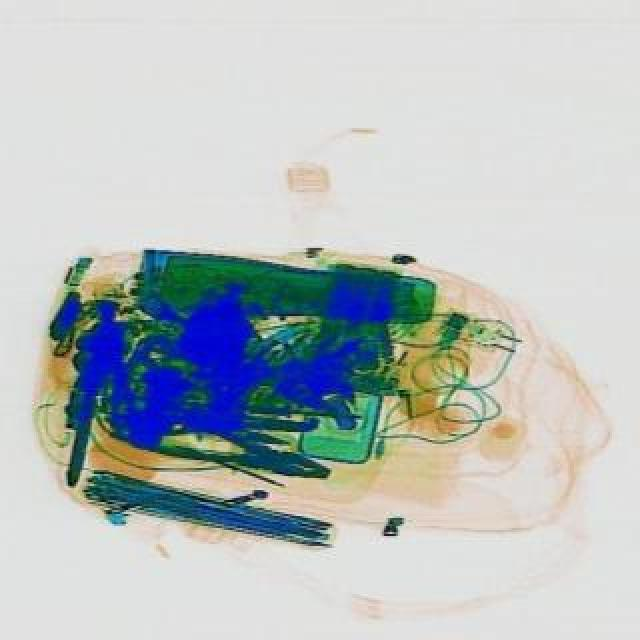wrench: (106, 398, 338, 494)
